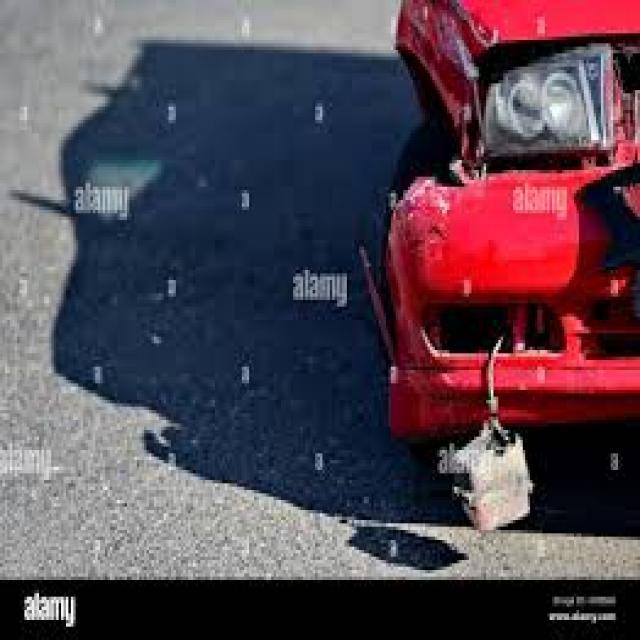damaged-head-light: (457, 55, 620, 148)
